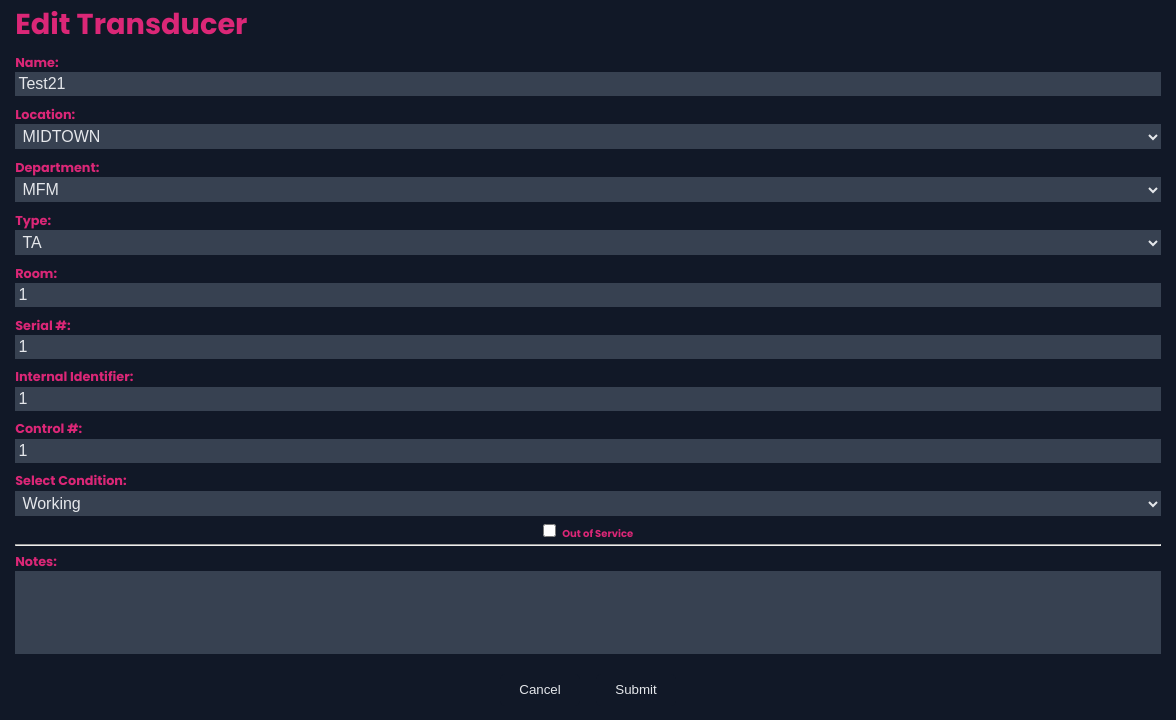
Test: EditTransducer › should cancel editing a transducer
In the field labelled "Serial #:": (588, 348) x1=15 y1=335 x2=1161 y2=361, type "0001-6701Z"
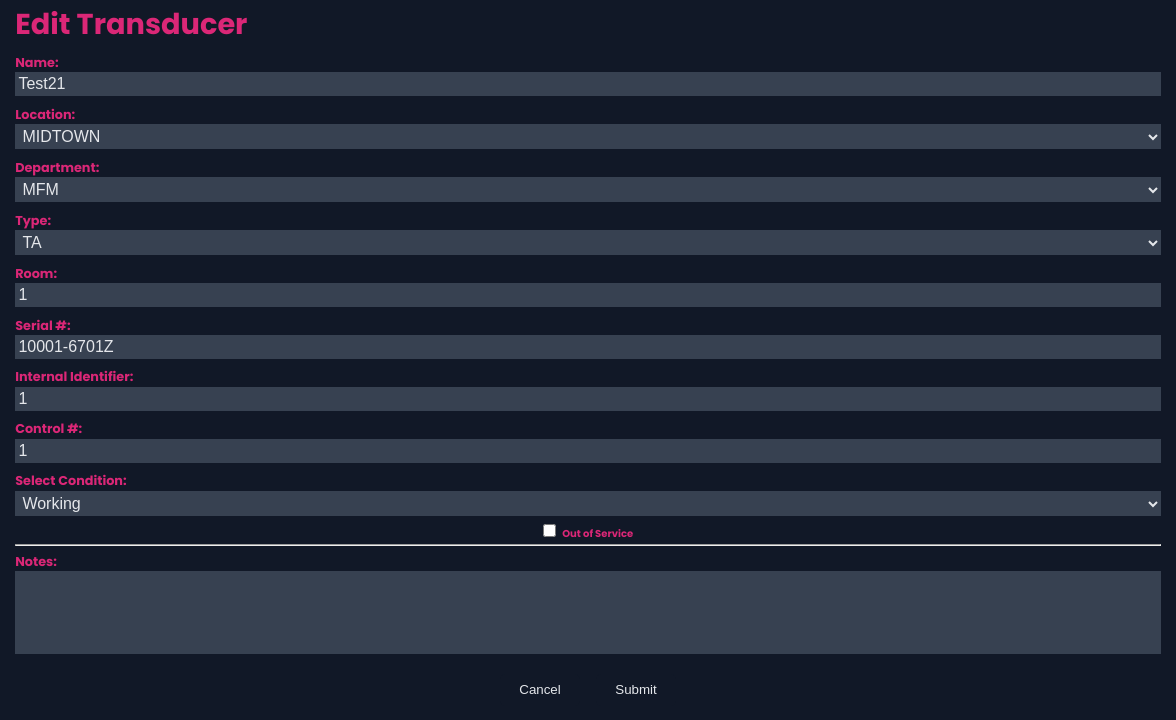
Click the button "Cancel": (540, 690) x1=500 y1=674 x2=580 y2=706
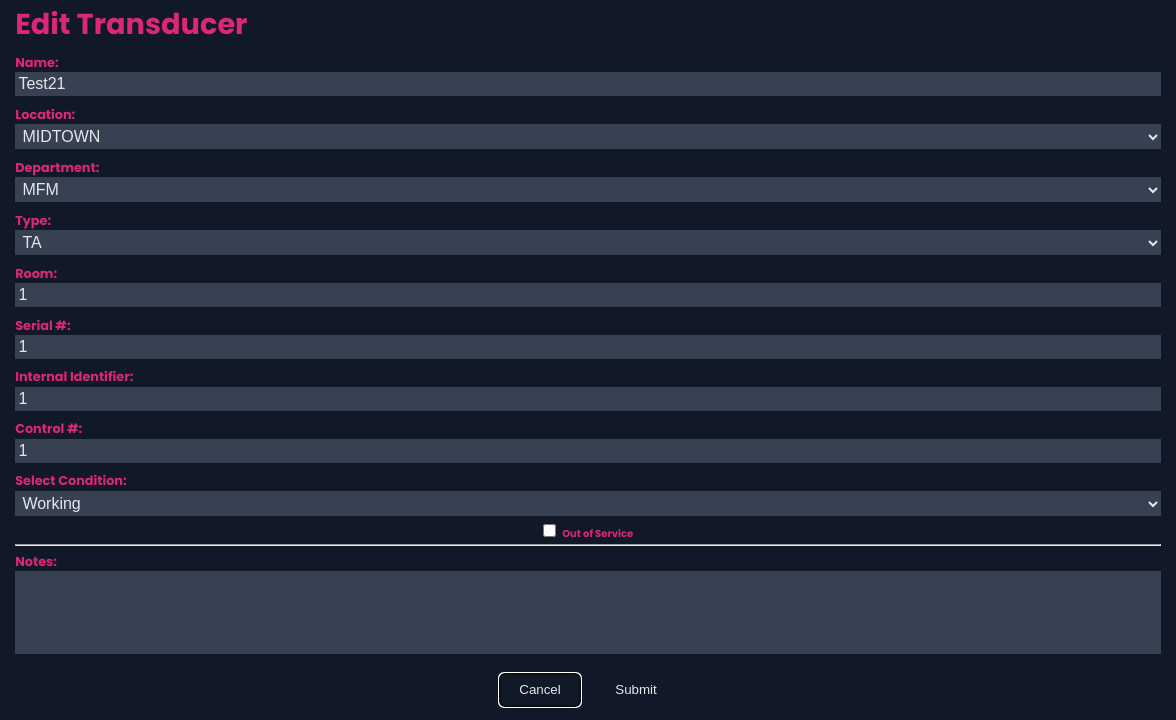
Expected: the field labelled "Serial #:" holds "1", x1=15 y1=335 x2=1161 y2=361
